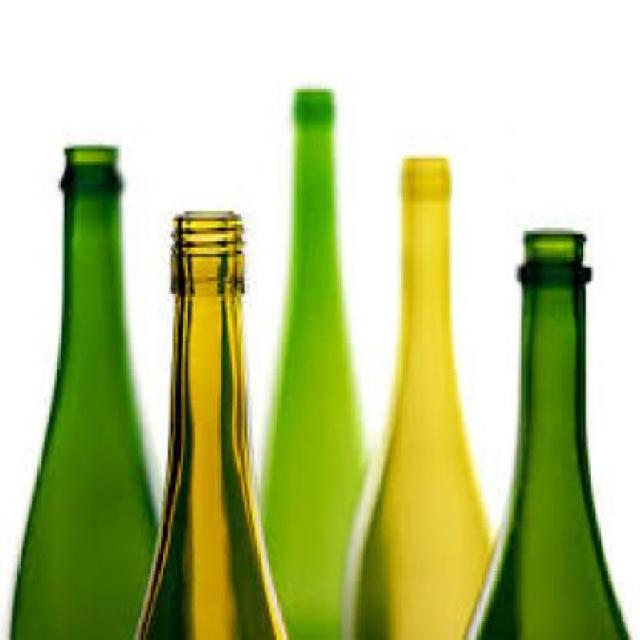GLASS: (8, 145, 158, 637), (458, 228, 625, 637), (351, 155, 489, 637), (128, 211, 280, 637), (257, 89, 366, 637)
